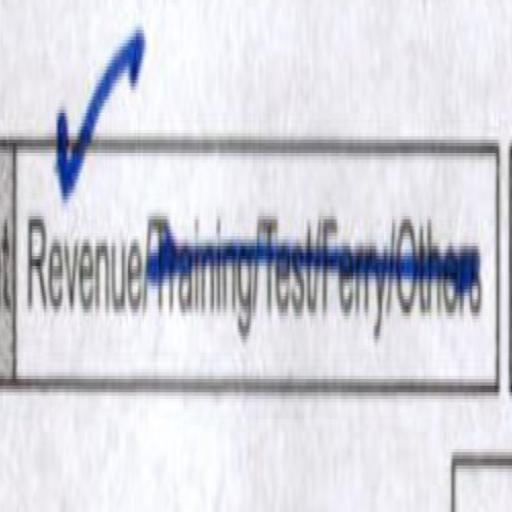check: (18, 73, 146, 393)
